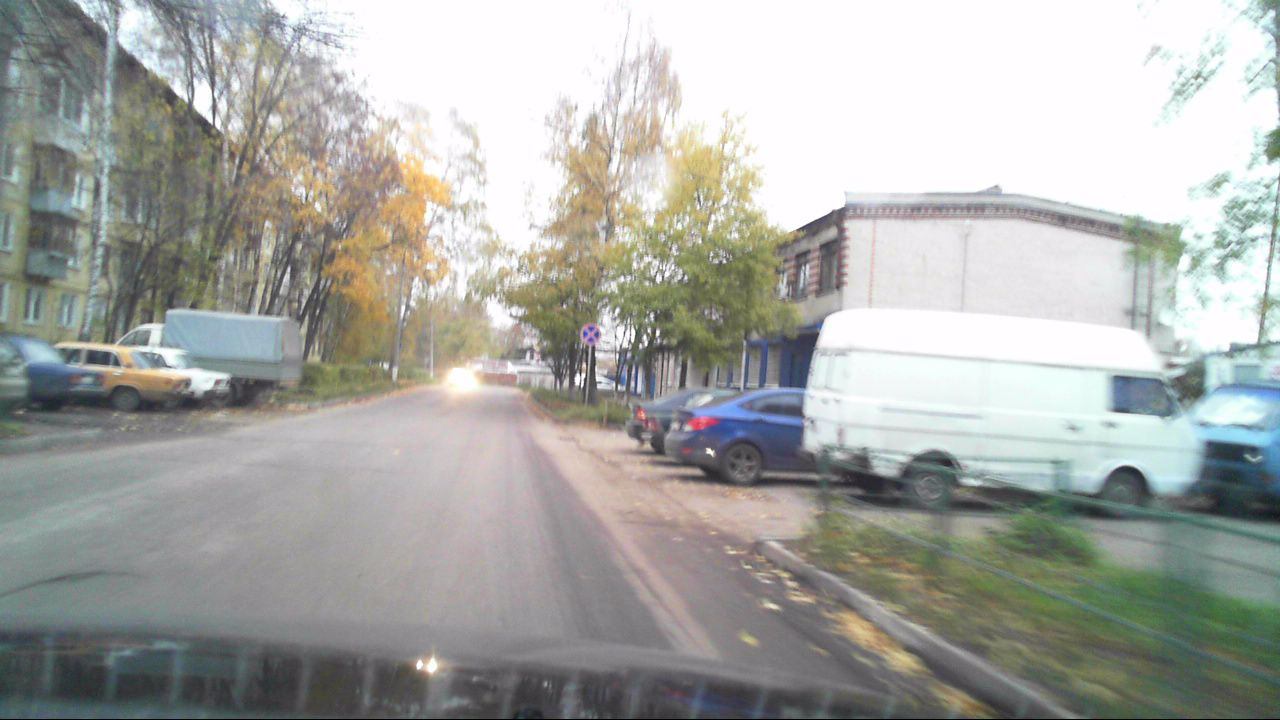No Parking: (580, 323, 601, 346)
